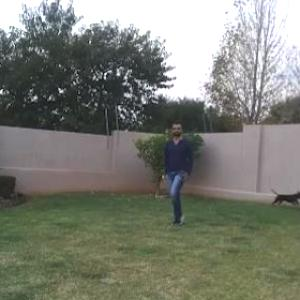follow: (163, 118, 194, 223)
